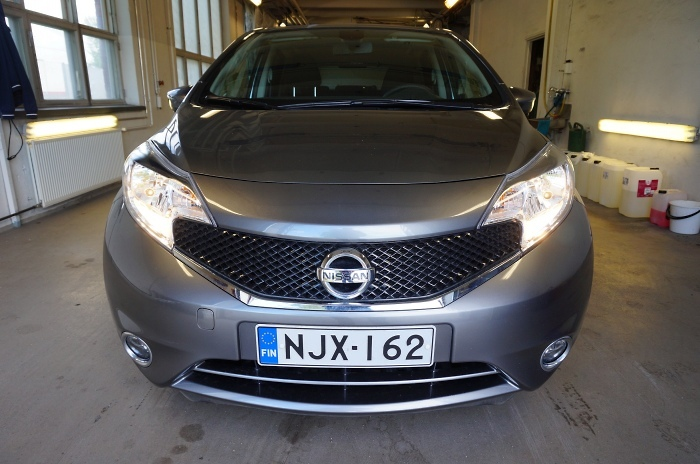license: (254, 325, 430, 367)
